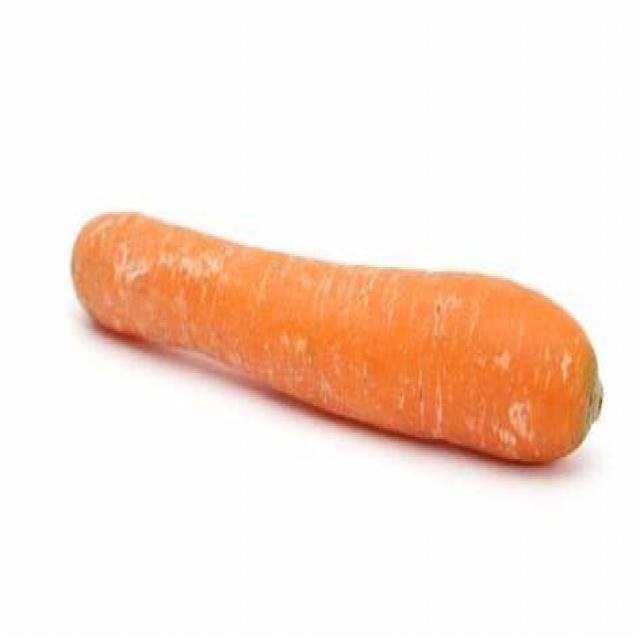Carrot: (72, 209, 606, 465)
